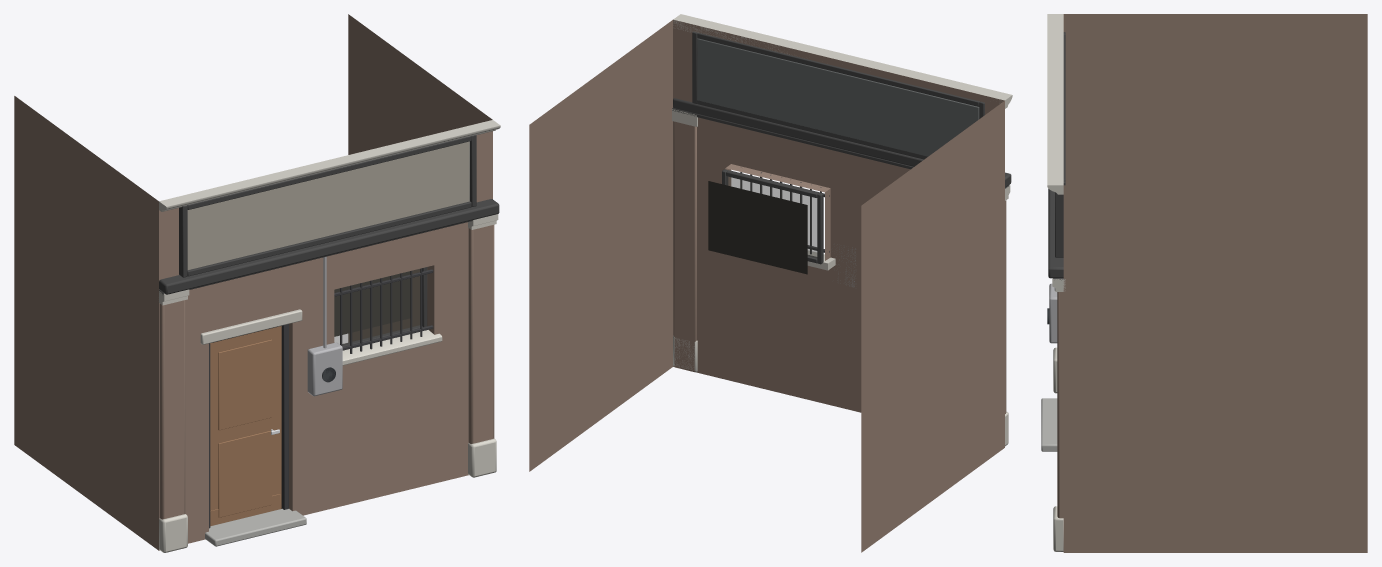
Rendered from wall_4a.glb.
The picture shows the model from 3 angles, left to right: view 1: azimuth 30°, elevation 25°; view 2: azimuth 150°, elevation 25°; view 3: azimuth 270°, elevation 25°; orthographic projection. The views are drawn at different scales.
Visible parts, largest first — view 1: wall_4a; view 2: wall_4a; view 3: wall_4a.
Boxes of the visible parts, x1,y1,x2,y2 form: wall_4a: (14,14,500,552); wall_4a: (529,14,1012,552); wall_4a: (1041,14,1367,552).
Bounding box in the file's own units: 4 × 4 × 3.22.
